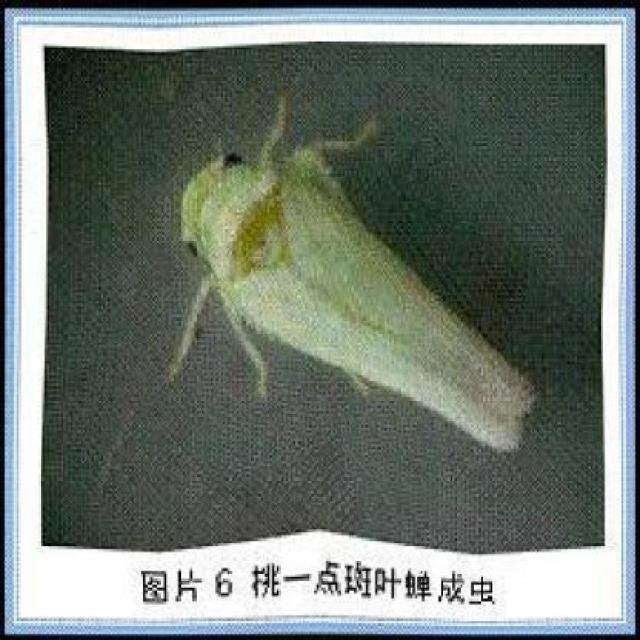green-leafhopper: (183, 119, 534, 450)
